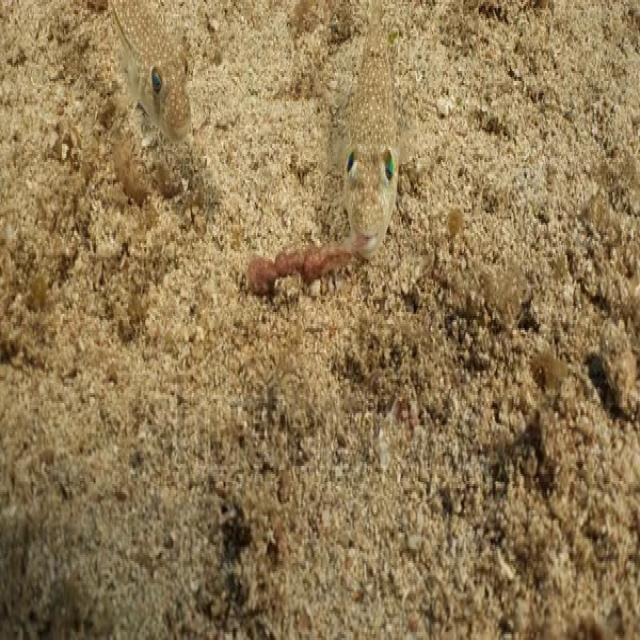Balon Baligi: (84, 0, 214, 140), (343, 0, 400, 264)
